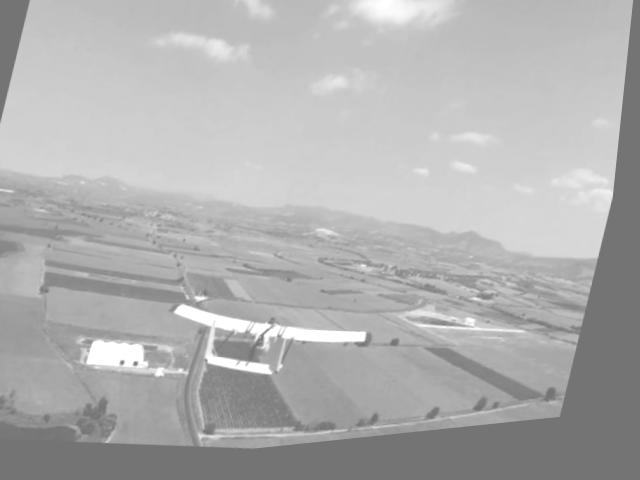hedef: (143, 281, 396, 420)
